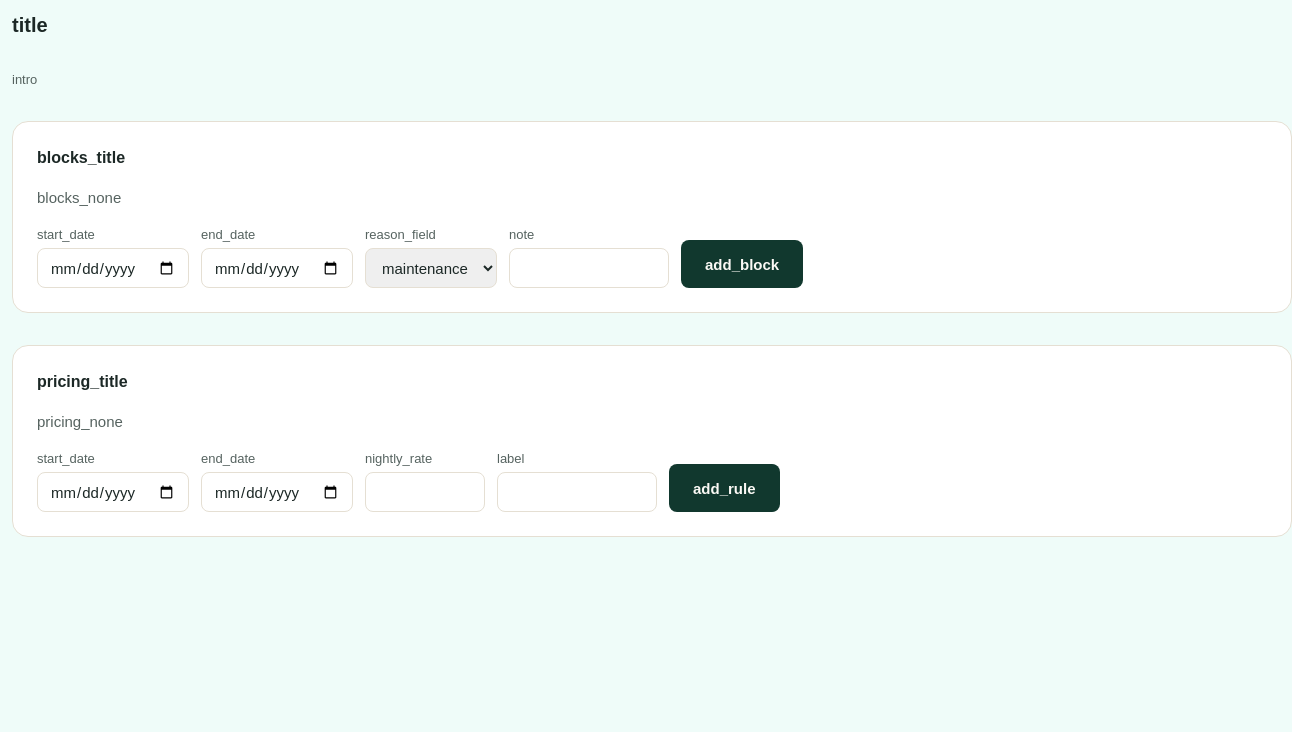
Test: manual price form completion › preserves entered dates and amount after a rejected write
Expected: the button "add_rule" is shown, [669,464,780,512]
Type "2026-11-01" into the date field labelled "start_date" below "nightly_rate" at [113, 492], box [37,472,189,512]
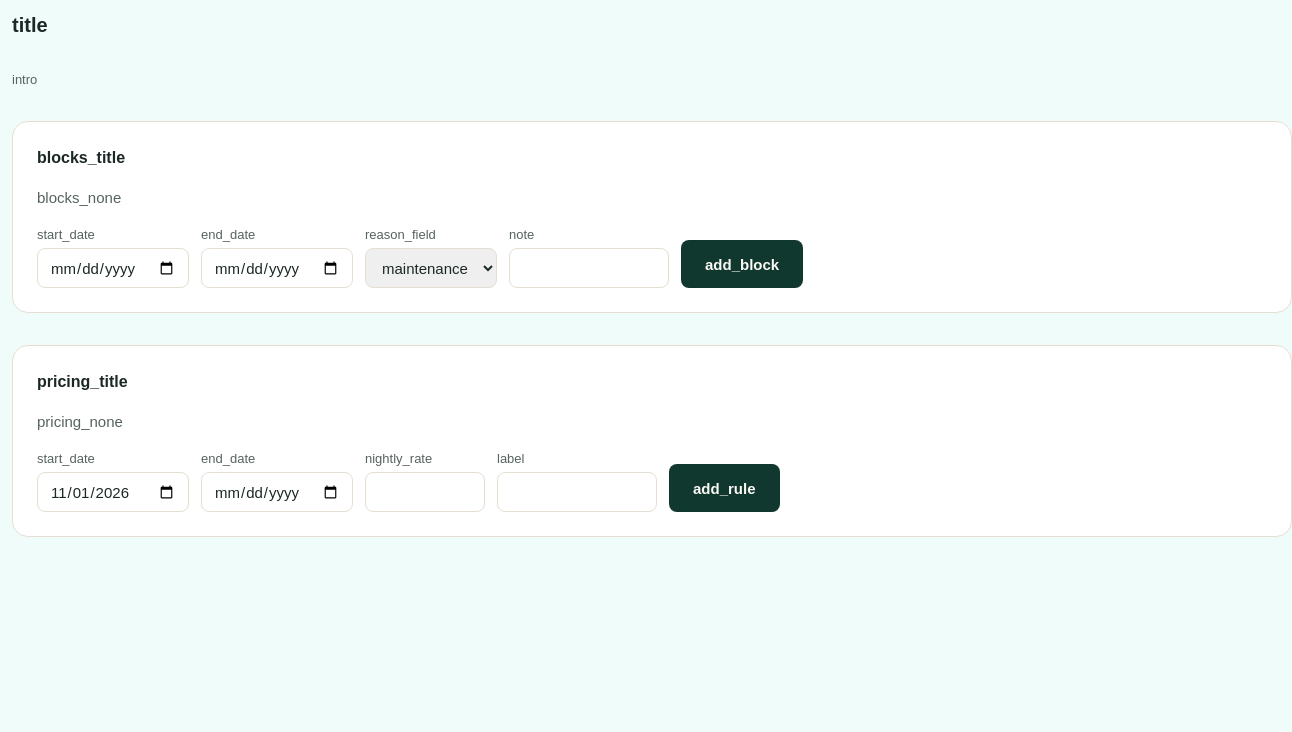
Type "2026-11-10" into the date field labelled "end_date" below "nightly_rate" at [277, 492], box [201,472,353,512]
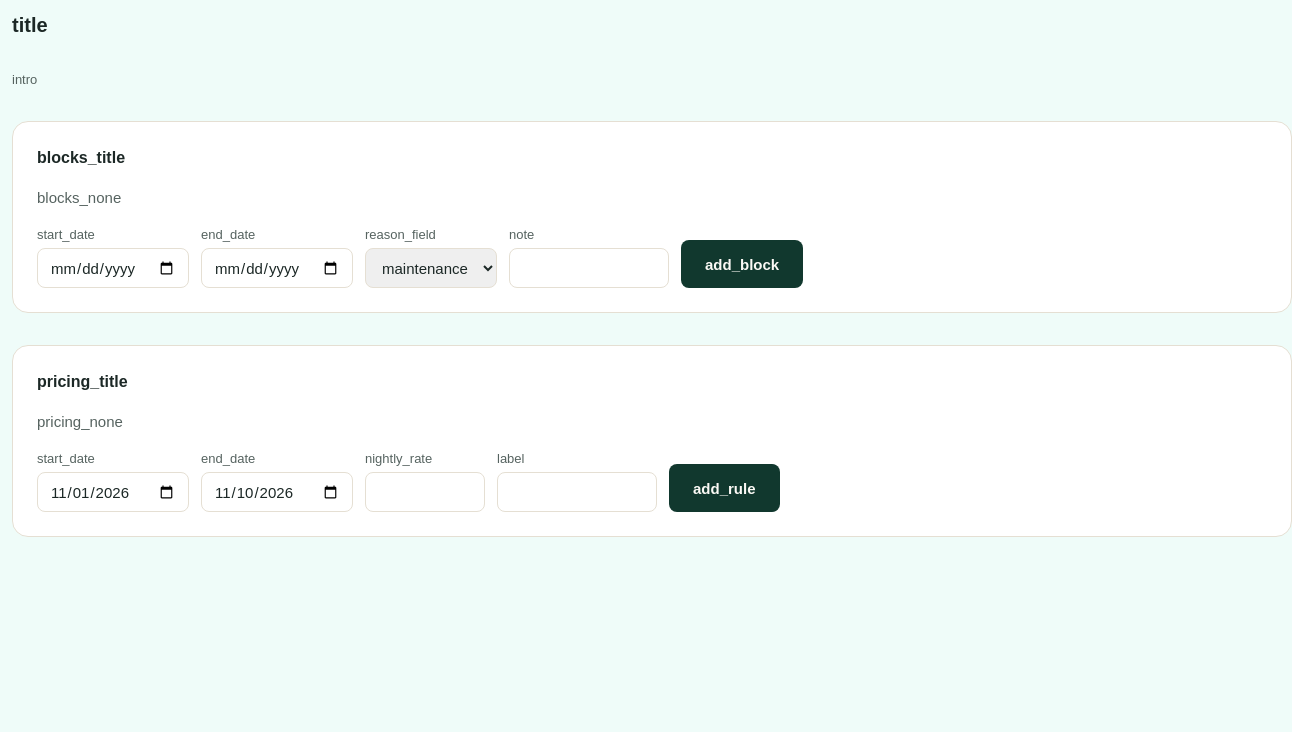
Type "6500" into the number field labelled "nightly_rate" at [425, 492], box [365,472,485,512]
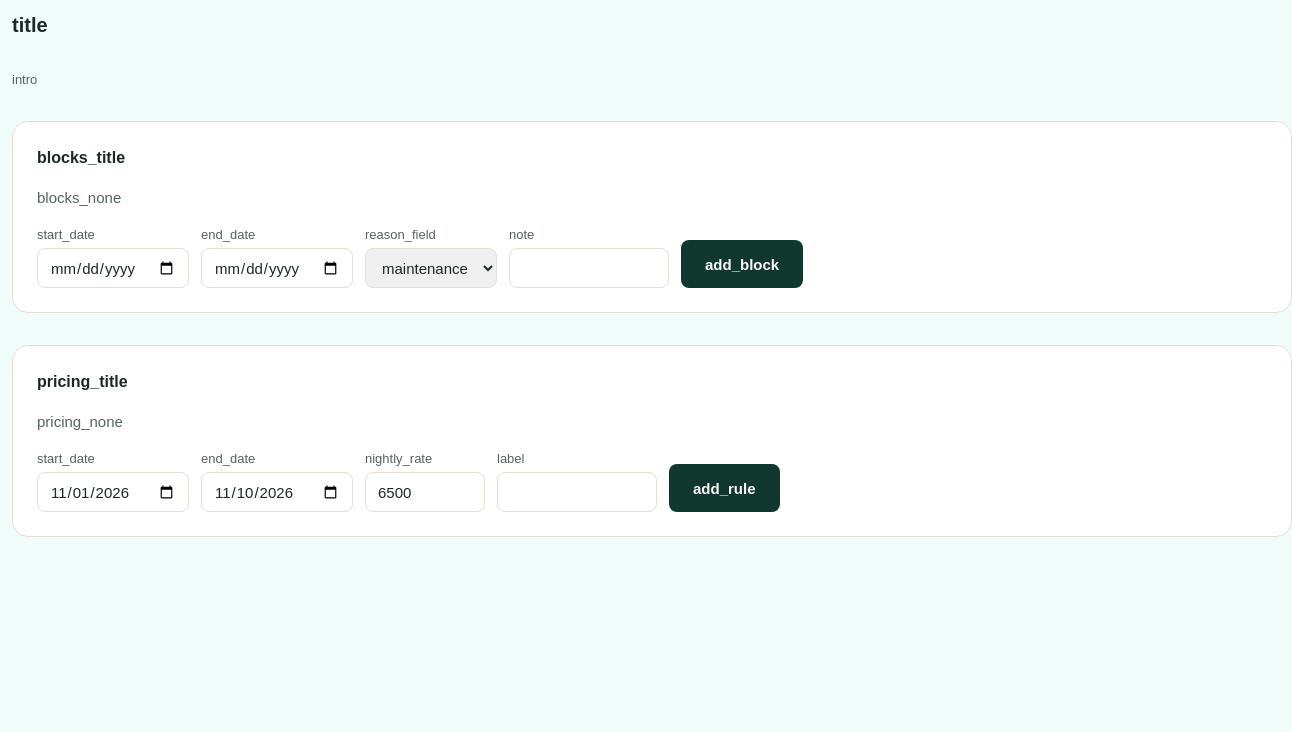
Submit the form "add_rule", box [37,451,780,512]
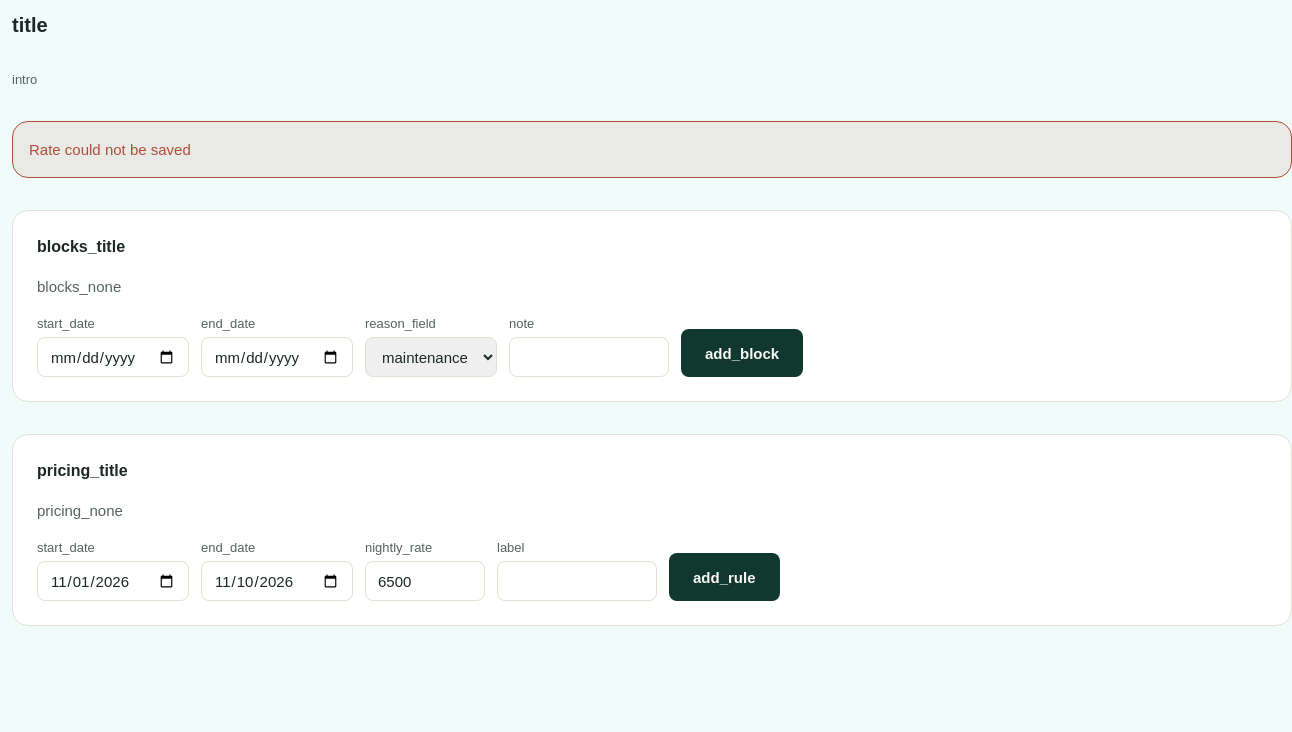
Expected: the text "Rate could not be saved" is shown, [29,141,191,158]
